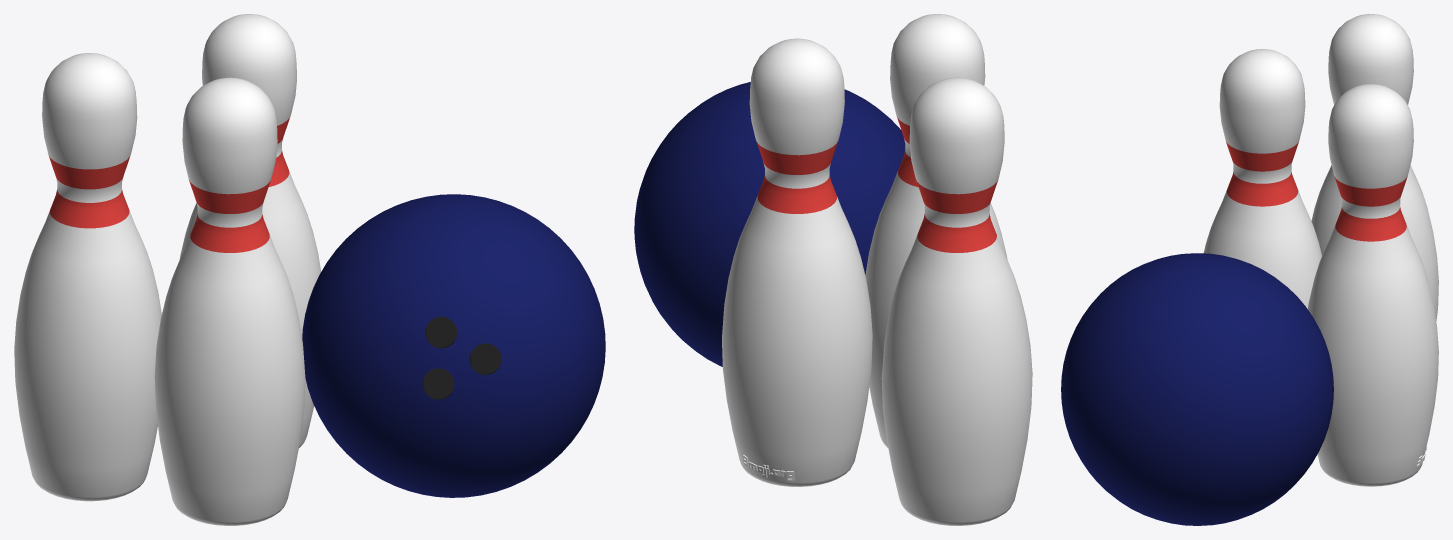
File: bowling.gltf
The picture shows the model from 3 angles, left to right: view 1: azimuth 30°, elevation 25°; view 2: azimuth 150°, elevation 25°; view 3: azimuth 270°, elevation 25°; orthographic projection. The views are drawn at different scales.
Parts seen in each view (by area): view 1: Cube.816; view 2: Cube.816; view 3: Cube.816.
Boxes of the visible parts, <box> form: Cube.816: <box>14,14,605,525</box>; Cube.816: <box>634,14,1032,525</box>; Cube.816: <box>1061,14,1438,525</box>.
Size of the model in its own units: 2.41 by 2.09 by 1.89.
1 material, 1 textured.
